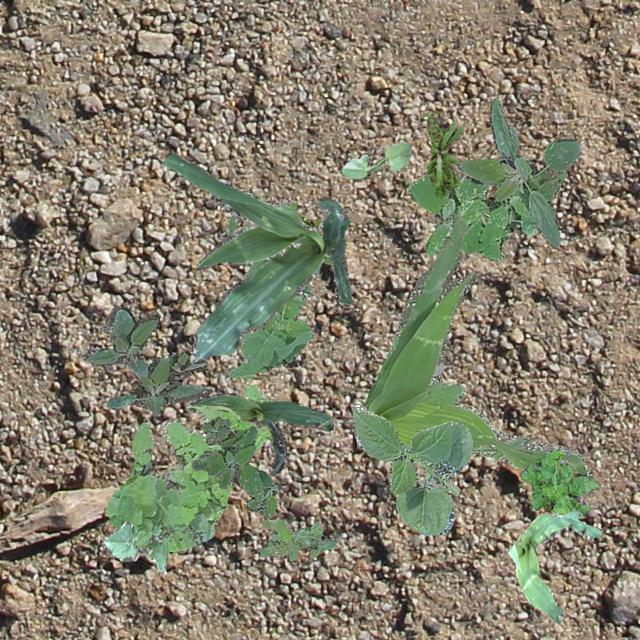crop: (162, 154, 350, 362), (351, 402, 473, 534), (185, 392, 332, 472), (506, 510, 602, 622), (102, 520, 168, 574), (340, 140, 410, 178), (298, 214, 332, 266)
weed: (364, 210, 592, 477), (105, 382, 272, 550), (458, 96, 580, 248), (220, 188, 310, 378), (82, 304, 212, 414), (408, 170, 566, 260), (192, 416, 276, 516), (518, 448, 598, 518), (426, 112, 464, 198), (260, 518, 334, 560)
